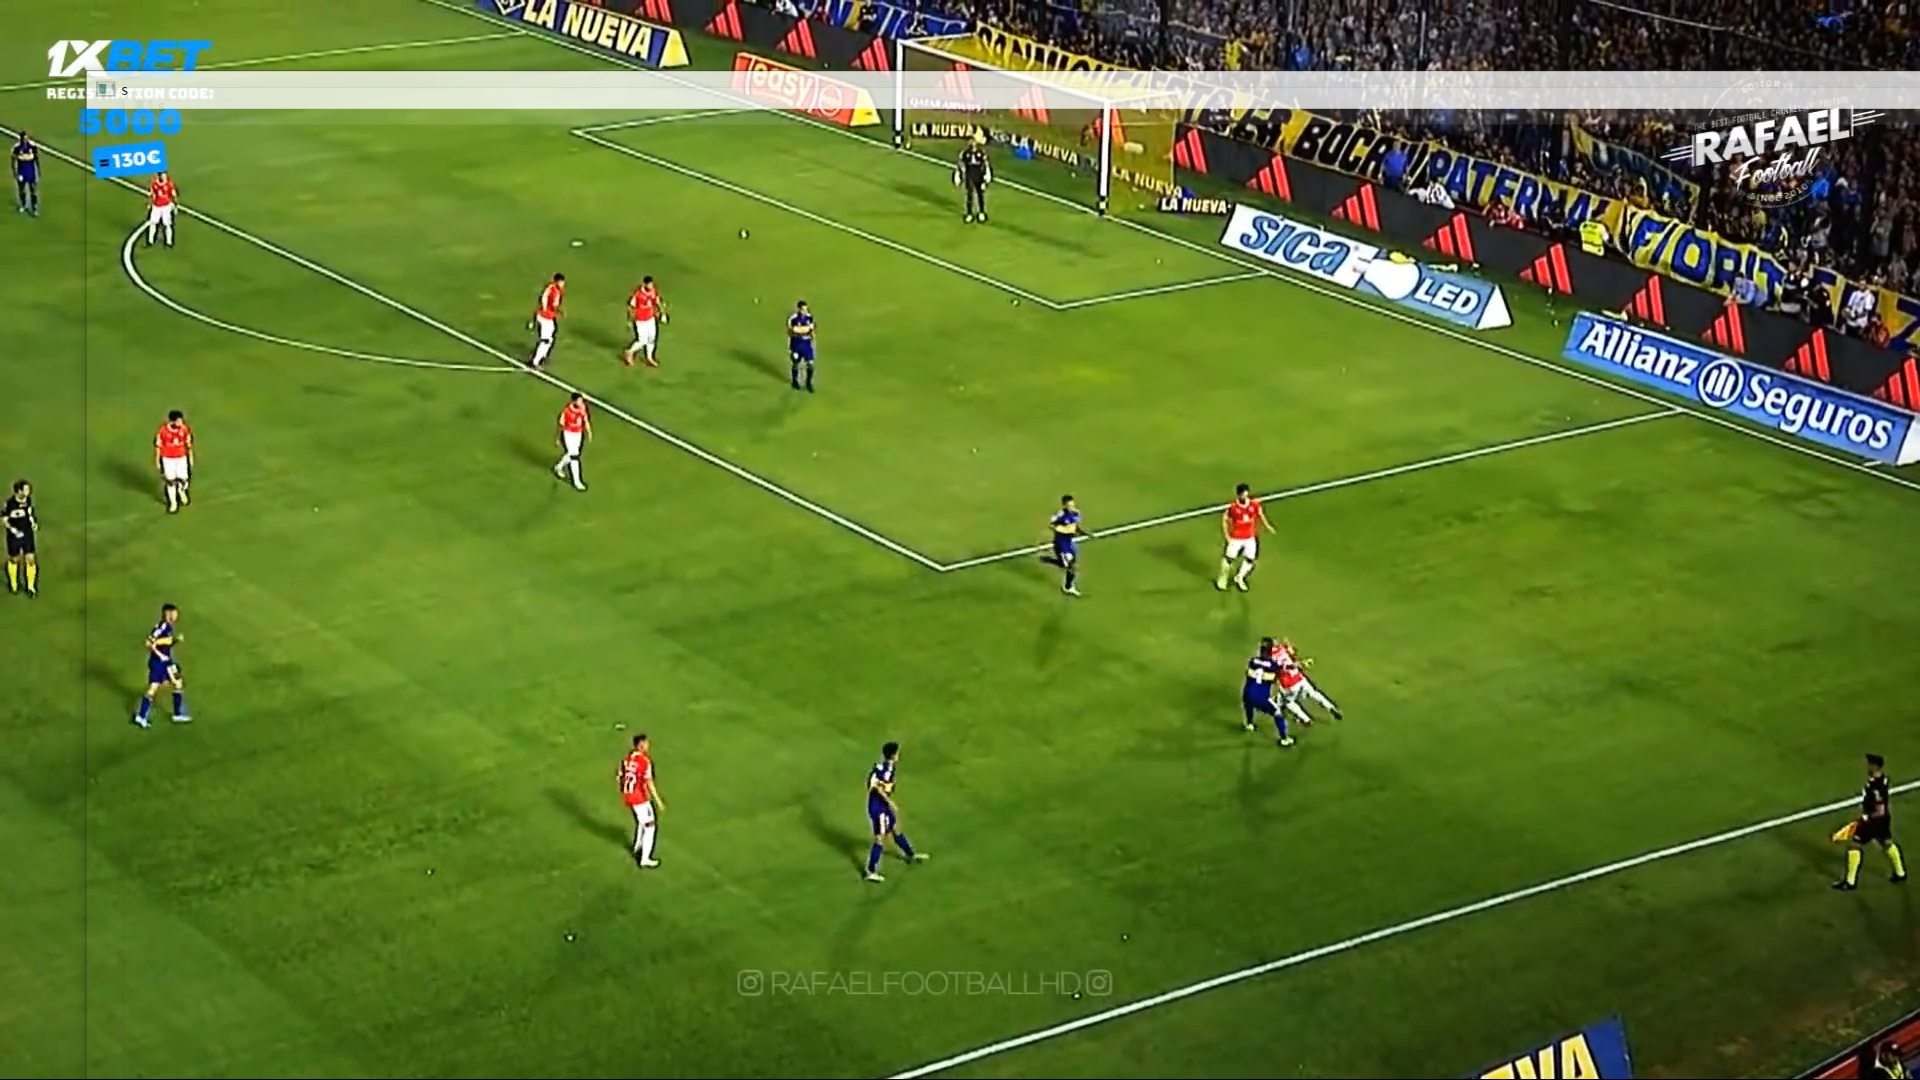ft: (1271, 694, 1290, 713)
